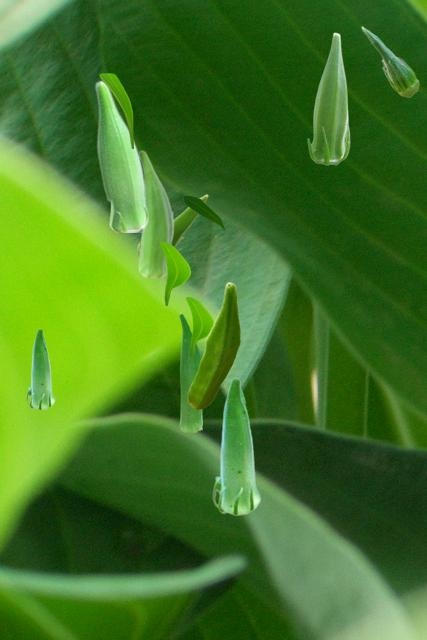okra: (94, 80, 147, 231), (212, 377, 260, 515), (187, 282, 239, 408), (307, 32, 349, 164), (137, 194, 207, 257), (138, 150, 173, 276), (361, 26, 418, 96), (179, 312, 201, 431), (26, 328, 54, 409)
